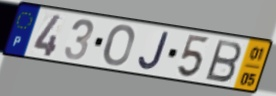3: (63, 18, 95, 61)
4: (31, 11, 62, 59)
5: (177, 33, 211, 79)
B: (203, 38, 243, 84)
J: (136, 30, 171, 72)
O: (102, 23, 136, 67)
